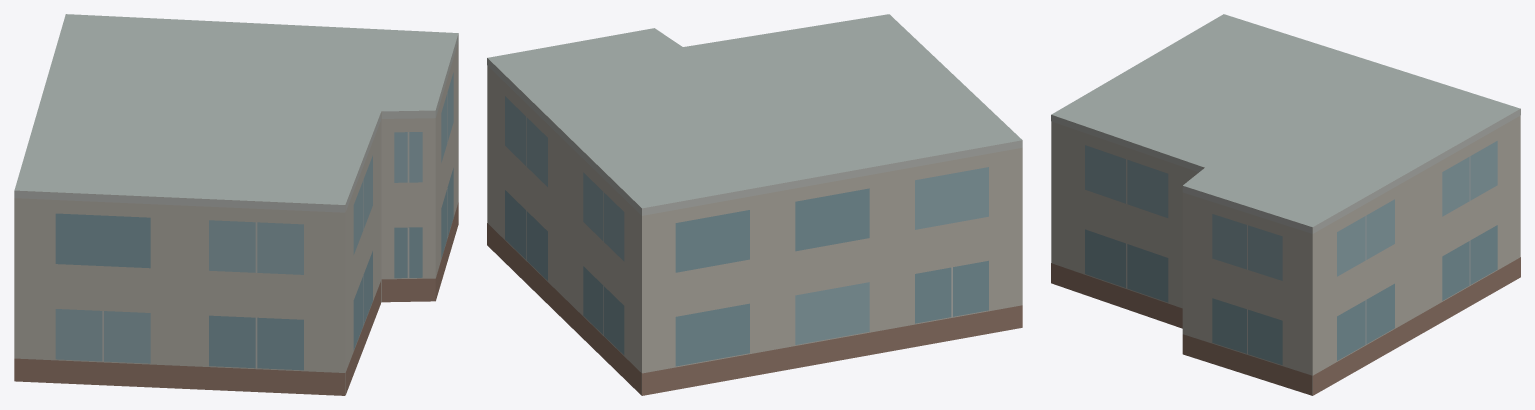
The model's file is survey-upis-32824770.glb.
3 renders of one model, left to right at view 1: azimuth 30°, elevation 25°; view 2: azimuth 150°, elevation 25°; view 3: azimuth 270°, elevation 25°, orthographic. The views are drawn at different scales.
Visible parts, largest first — view 1: survey-upis-32824770.tmp; view 2: survey-upis-32824770.tmp; view 3: survey-upis-32824770.tmp.
Part boxes in pixels (<box>): survey-upis-32824770.tmp: <box>14,14,458,395</box>; survey-upis-32824770.tmp: <box>487,14,1022,395</box>; survey-upis-32824770.tmp: <box>1051,14,1520,395</box>.
Size of the model in its own units: 16.56 by 6.1 by 15.4.
